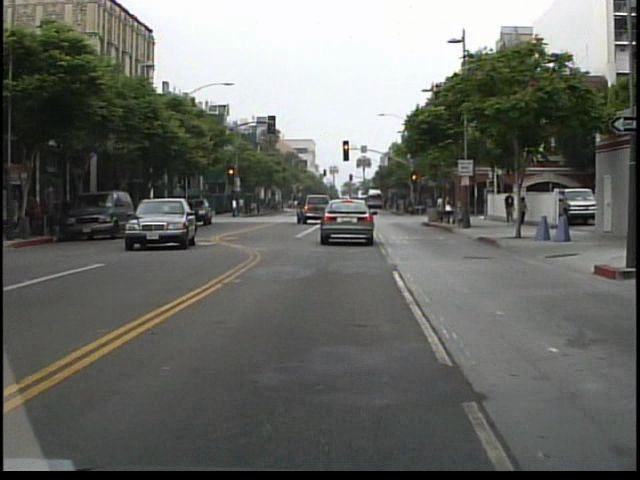person: (434, 189, 452, 224), (503, 186, 518, 226), (519, 189, 532, 226), (231, 193, 241, 219)
